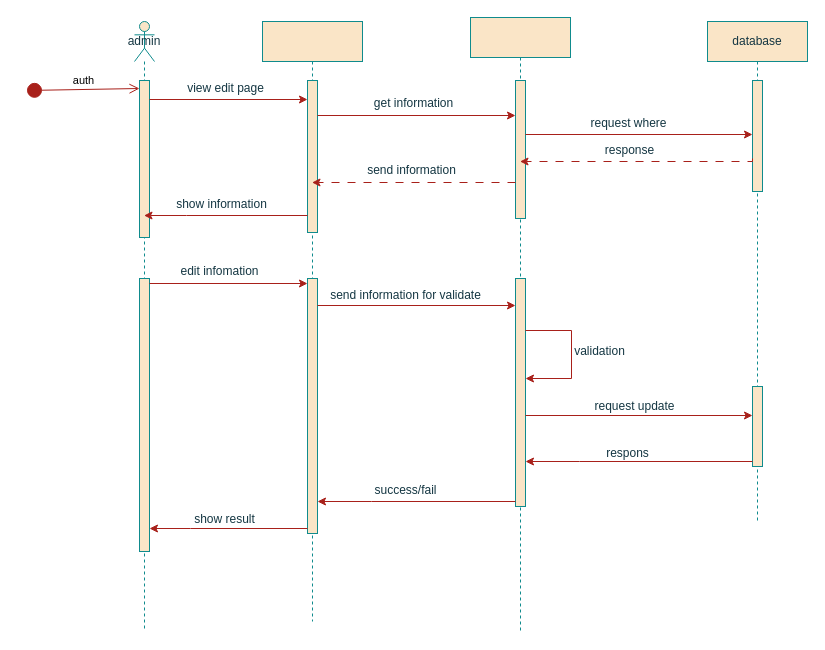
Some shapes in this 825 by 650 pixel diagram are drawn without their labels. Here are the shapes that lost their labels. From the top down, the box of each, then its label:
(262, 20, 362, 622): admin edit profile page
(470, 16, 570, 632): admin controller
